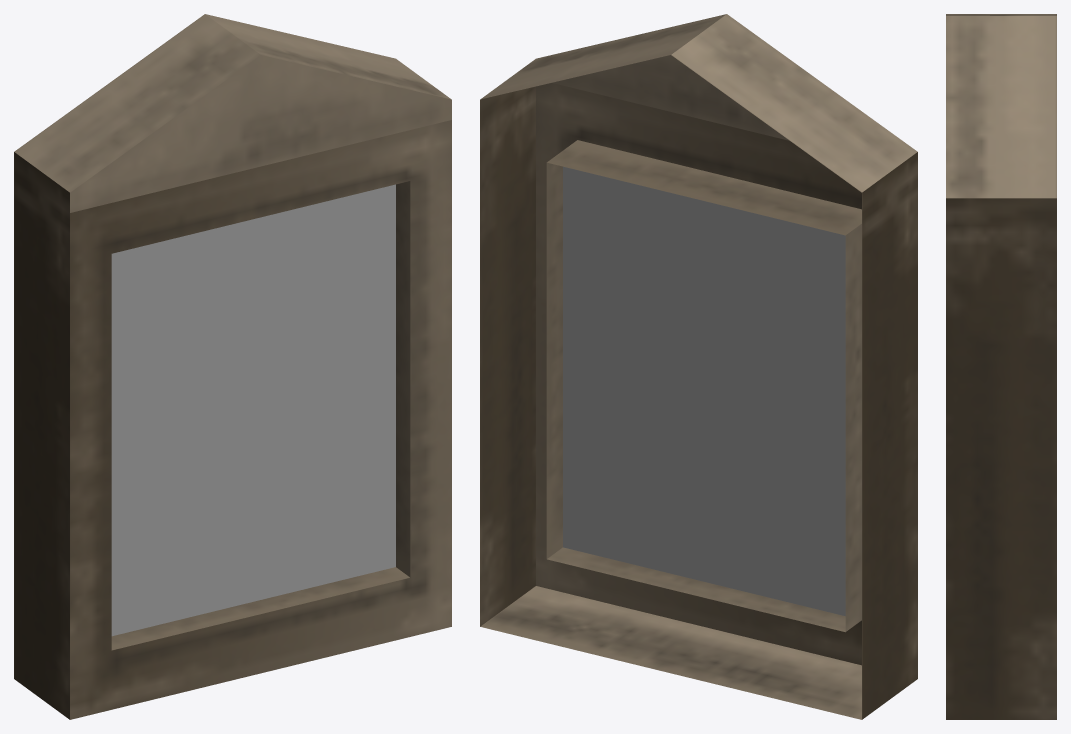
Rendered from Window1.fbx.
The picture shows the model from 3 angles, left to right: view 1: azimuth 30°, elevation 25°; view 2: azimuth 150°, elevation 25°; view 3: azimuth 270°, elevation 25°; orthographic projection.
Visible parts, largest first — view 1: window, pane; view 2: window, pane; view 3: window.
Boxes of the visible parts, box(x1,y1,x2,y2) form: window: box(14, 14, 451, 719); pane: box(111, 184, 395, 636); window: box(480, 14, 917, 719); pane: box(563, 166, 845, 616); window: box(946, 14, 1056, 719).
Bounding box in the file's own units: 0.0121 × 0.0188 × 0.00308.
Materials: 2 (1 with a texture image).
